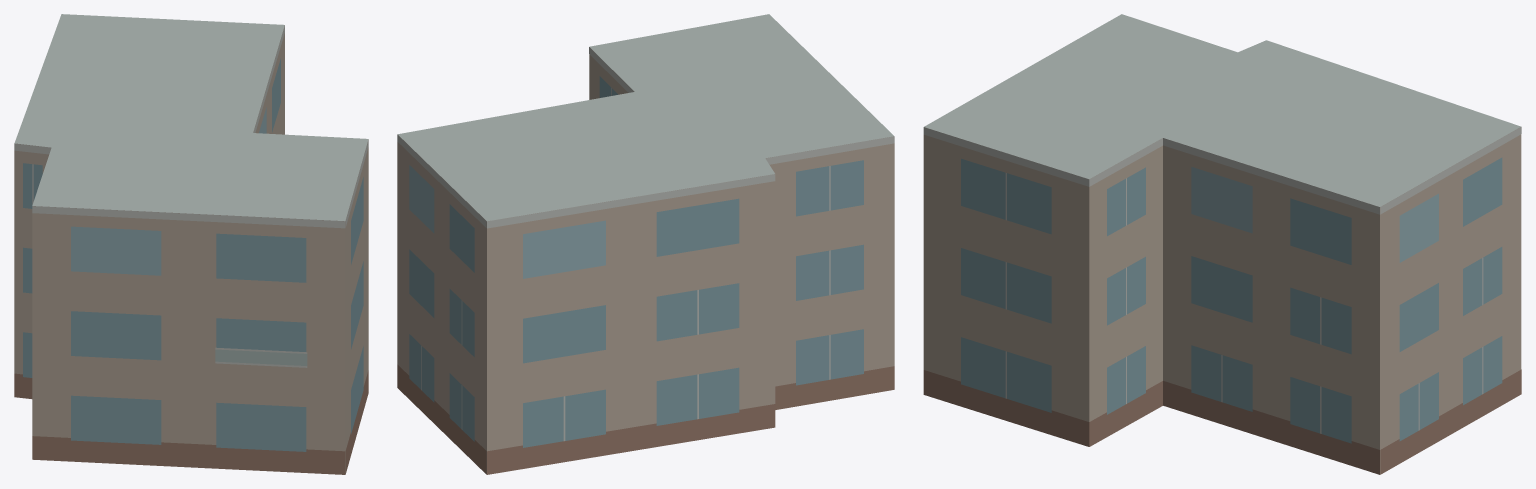
The model's file is survey-upis-32511027.glb.
3 renders of one model, left to right at view 1: azimuth 30°, elevation 25°; view 2: azimuth 150°, elevation 25°; view 3: azimuth 270°, elevation 25°, orthographic. The views are drawn at different scales.
Visible parts, largest first — view 1: survey-upis-32511027.tmp; view 2: survey-upis-32511027.tmp; view 3: survey-upis-32511027.tmp.
Part boxes in pixels (box(x1,y1,x2,y2)): survey-upis-32511027.tmp: box(14, 14, 368, 474); survey-upis-32511027.tmp: box(397, 14, 894, 474); survey-upis-32511027.tmp: box(923, 14, 1521, 474).
Bounding box in the file's own units: 13.31 × 8.6 × 17.41.
